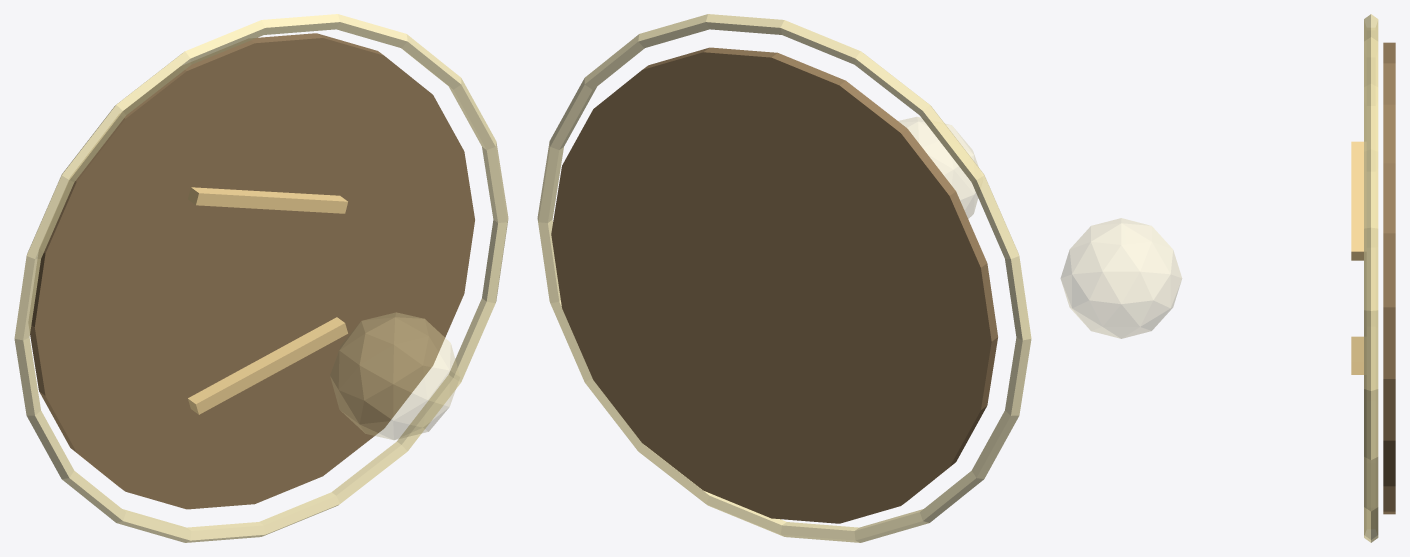
Rendered from 07_weather_terrain_nature_effect.glb.
3 views of the same model, side by side, from view 1: azimuth 30°, elevation 25°; view 2: azimuth 150°, elevation 25°; view 3: azimuth 270°, elevation 25° (orthographic). The views are drawn at different scales.
Parts seen in each view (by area): view 1: terrain_patch, weather_boundary, weather_orb, terrain_marker_a, terrain_marker_b; view 2: terrain_patch, weather_boundary, weather_orb; view 3: weather_orb, weather_boundary, terrain_patch, terrain_marker_b, terrain_marker_a.
Part boxes in pixels (<box>): terrain_patch: <box>29,33,474,509</box>; weather_boundary: <box>14,14,508,542</box>; weather_orb: <box>330,312,459,439</box>; terrain_marker_a: <box>188,317,347,414</box>; terrain_marker_b: <box>188,187,347,213</box>; terrain_patch: <box>551,47,997,523</box>; weather_boundary: <box>537,14,1031,542</box>; weather_orb: <box>898,117,978,218</box>; weather_orb: <box>1060,218,1181,338</box>; weather_boundary: <box>1364,14,1378,542</box>; terrain_patch: <box>1383,42,1395,514</box>; terrain_marker_b: <box>1351,141,1365,260</box>; terrain_marker_a: <box>1351,336,1365,374</box>.
Size of the model in its own units: 1.75 by 1.75 by 1.1.
